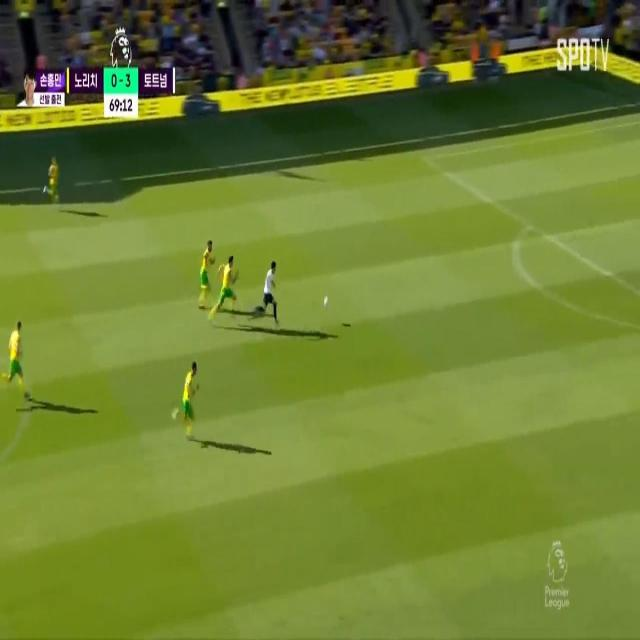ball: (320, 289, 334, 313)
player: (178, 362, 198, 436), (219, 247, 238, 323), (9, 315, 26, 399), (261, 251, 279, 328), (198, 238, 212, 309), (46, 148, 59, 206)
